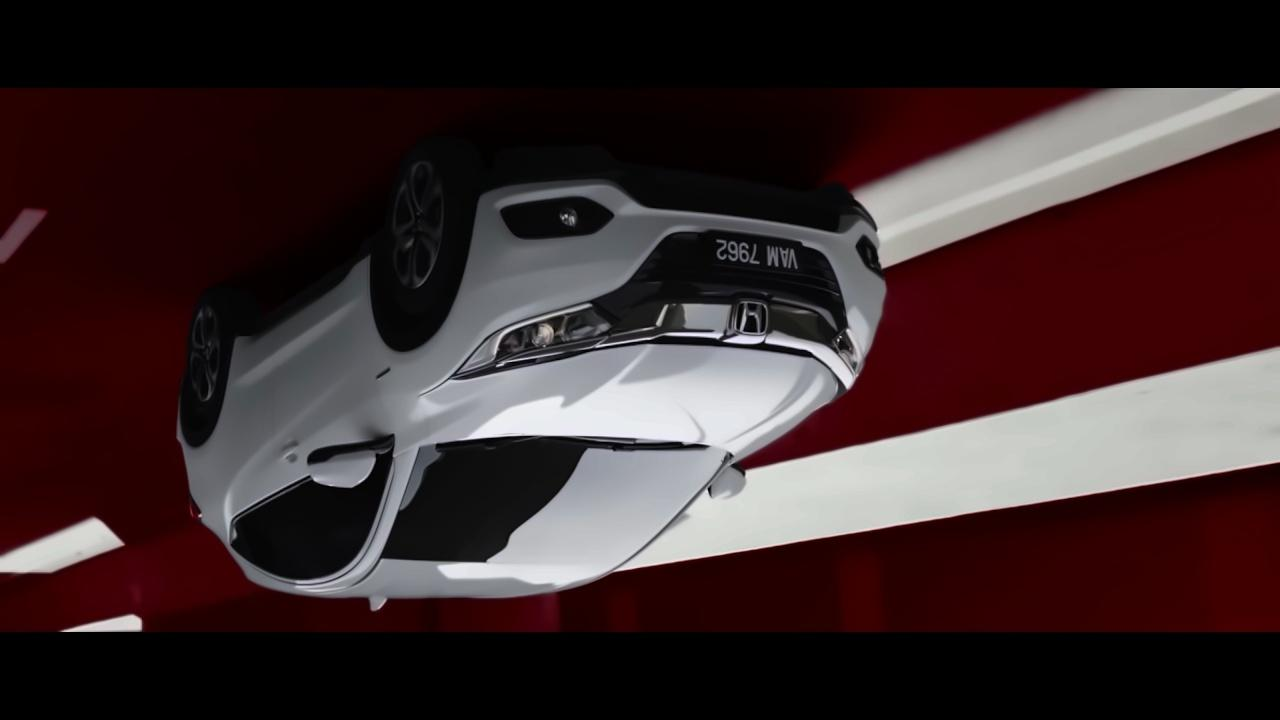Car hood: (437, 343, 847, 466)
Fender - -F-L-: (365, 251, 489, 456)
Fender - -R-L-: (180, 403, 255, 536)
Front bumper: (459, 149, 898, 328)
Headlight - -L-: (478, 300, 629, 374)
Headlight - -R-: (815, 326, 871, 383)
Passenger-s door - -F-L-: (225, 254, 367, 594)
Rear light - -L-: (179, 489, 206, 533)
Side bumper - -L-: (215, 238, 376, 345)
Side mirror - -L-: (300, 439, 401, 493)
Side mirror - -R-: (703, 455, 760, 508)
